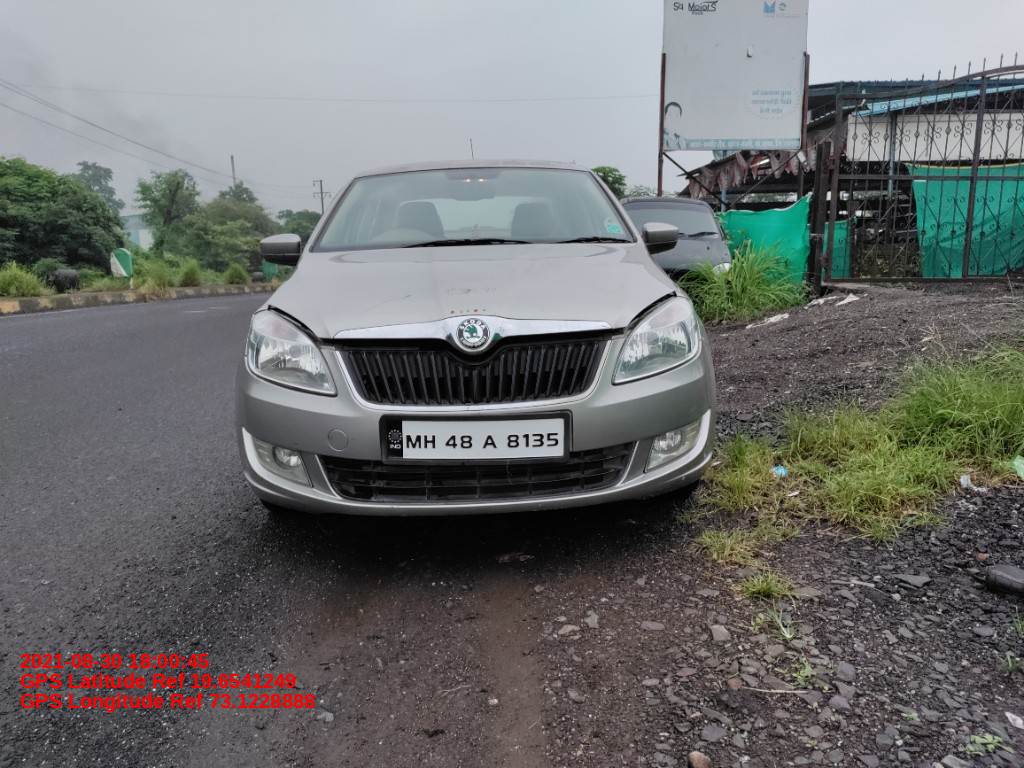Scratched: (289, 440, 305, 449), (349, 435, 360, 445)
